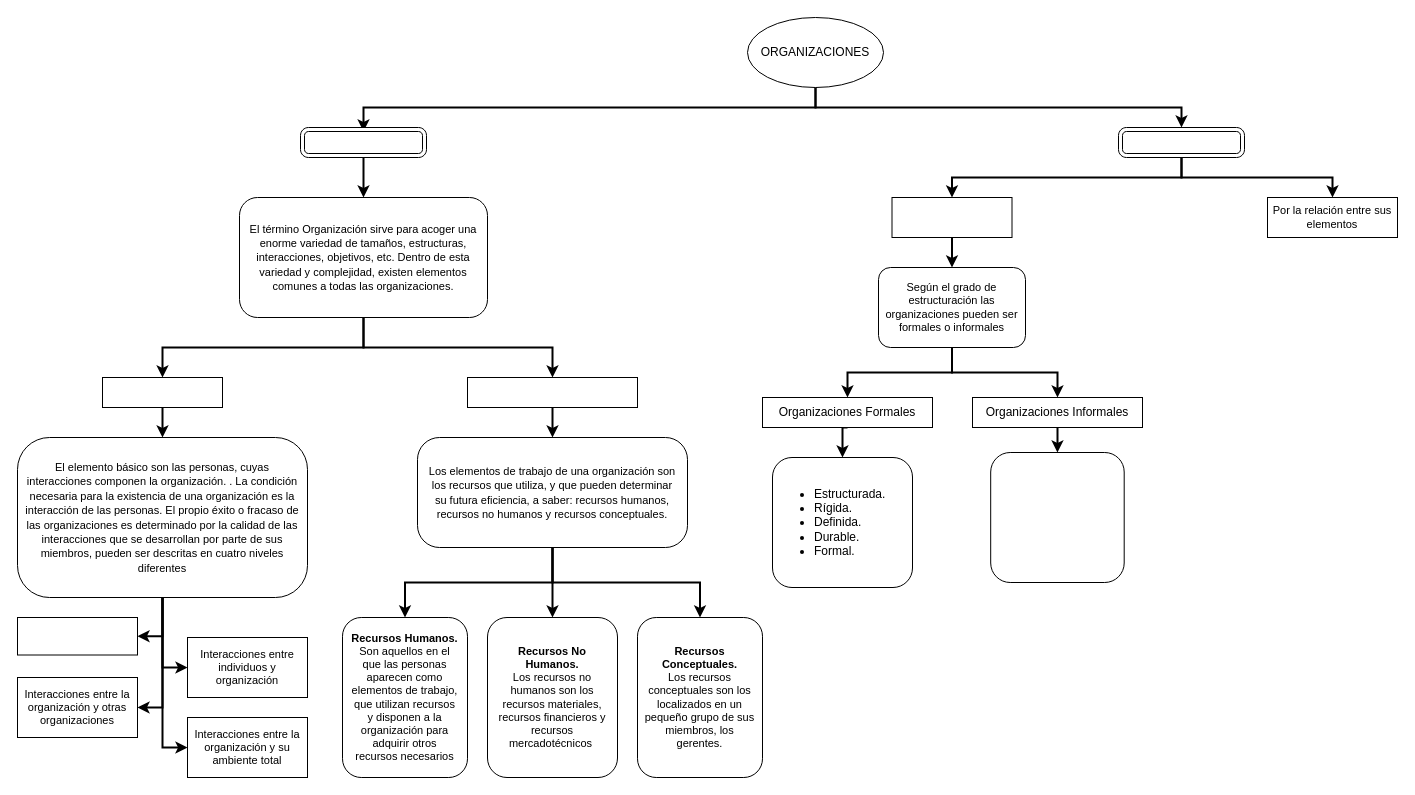
The diagram is 1415 pixels wide and 795 high, and some of its shapes have lost their labels. The box of each missing label's shape, as (x1, y1, x2, y2) in pixels:
Débil. Flexible. Indefinida. Espontánea. Informal.: (990, 452, 1124, 582)
ELEMENTOS: (300, 126, 426, 158)
Elementos Básicos: (102, 376, 222, 408)
Elementos de Trabajo: (466, 376, 638, 408)
Interacciones Individuales: (16, 616, 138, 655)
Por su estructura: (891, 196, 1012, 238)
TIPOS: (1118, 126, 1244, 158)
